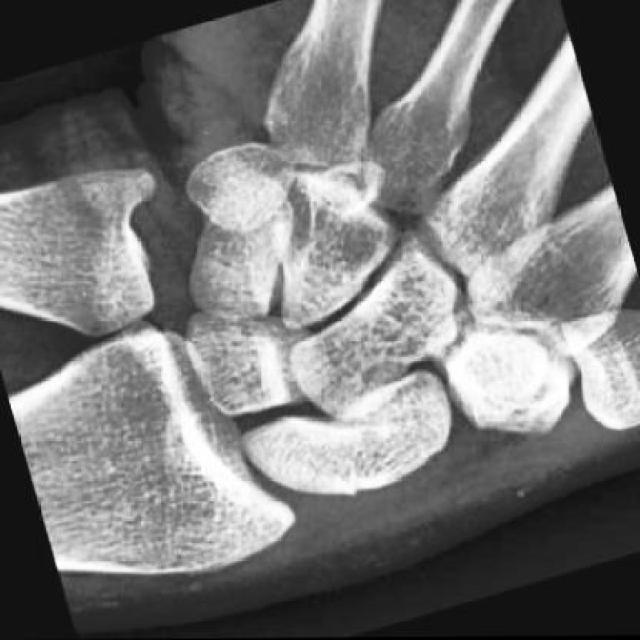Fracture: (326, 403, 406, 505)
